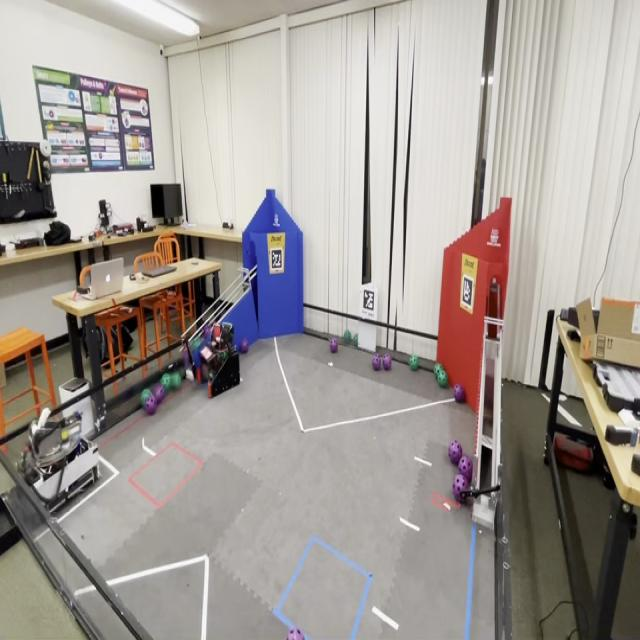artifact_green: (152, 383, 166, 406), (199, 362, 213, 381), (161, 373, 173, 393), (436, 369, 448, 388), (141, 388, 153, 407), (182, 344, 191, 369), (409, 355, 419, 372), (212, 352, 221, 370), (343, 328, 352, 344), (172, 373, 181, 389), (240, 338, 249, 353), (330, 338, 338, 353), (168, 371, 174, 391), (434, 363, 443, 376), (142, 388, 152, 399), (434, 367, 443, 379), (439, 368, 447, 380), (177, 368, 185, 380), (177, 374, 183, 388), (352, 334, 358, 347), (208, 371, 215, 382), (221, 351, 227, 362), (434, 369, 440, 379), (435, 362, 443, 369), (434, 369, 438, 379)
artifact_purple: (453, 475, 469, 503), (458, 456, 473, 482), (449, 440, 463, 465), (152, 383, 166, 405), (145, 395, 157, 414), (454, 383, 465, 402), (204, 324, 213, 344), (182, 347, 190, 369), (288, 629, 304, 639), (372, 354, 381, 370), (240, 338, 249, 353), (383, 354, 391, 370), (330, 338, 338, 353)
